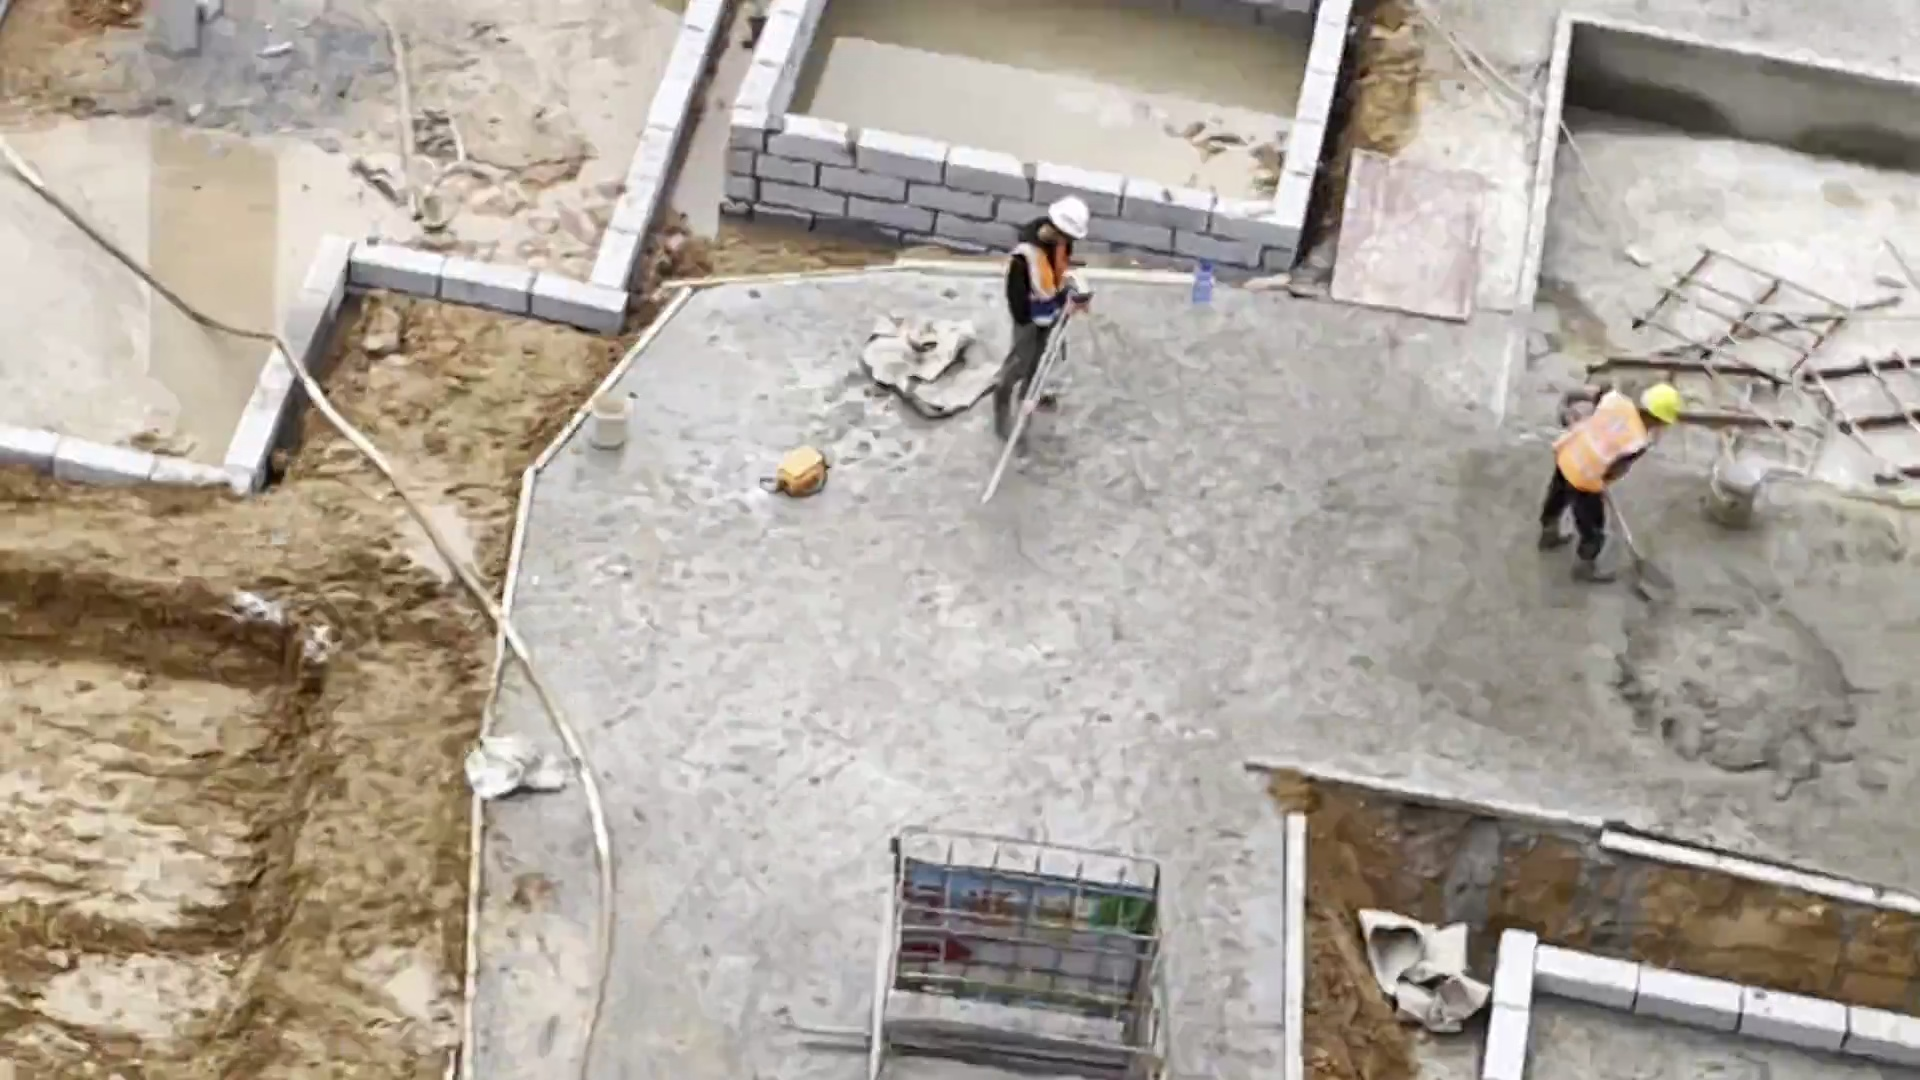brick: (779, 123, 1288, 284), (1531, 948, 1920, 1063), (599, 3, 718, 302), (226, 242, 347, 471), (354, 242, 620, 333), (5, 422, 227, 496), (1278, 1, 1344, 221), (723, 4, 788, 197), (1479, 923, 1529, 1076)
helmet: (1643, 384, 1681, 427), (1051, 200, 1088, 242)
person: (1530, 382, 1681, 576), (987, 195, 1094, 445)
vest: (1559, 394, 1638, 486), (1013, 238, 1065, 328)
